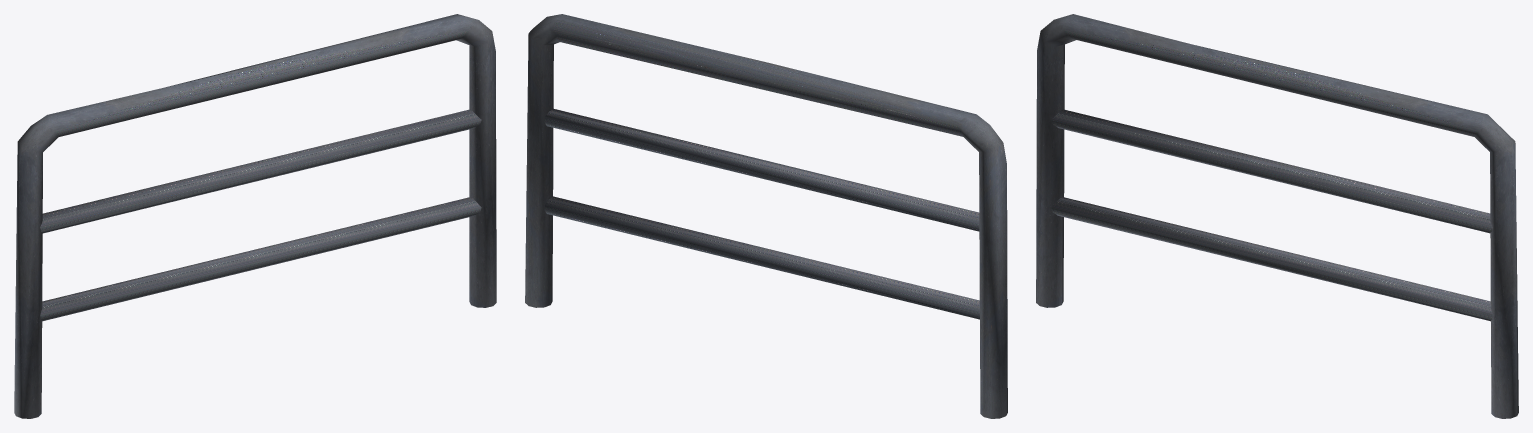
Rendered from ven_railing_LOD1.fbx.
3 views of the same model, side by side, from view 1: azimuth 30°, elevation 25°; view 2: azimuth 150°, elevation 25°; view 3: azimuth 330°, elevation 25° (orthographic).
Parts seen in each view (by area): view 1: railing; view 2: railing; view 3: railing.
Part boxes in pixels (x1,y1,x2,y2): railing: [14, 14, 496, 418]; railing: [525, 14, 1007, 418]; railing: [1036, 14, 1518, 418].
Size of the model in its own units: 1.28 by 0.7483 by 0.0609.
